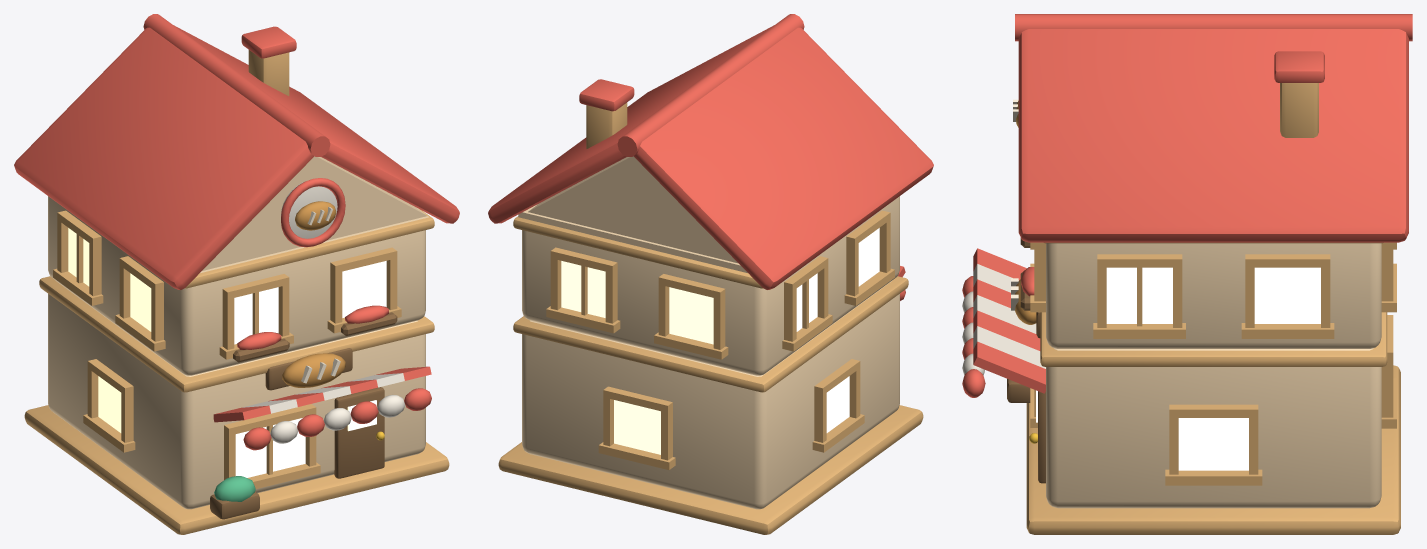
File: bld_pan.glb
3 renders of one model, left to right at view 1: azimuth 30°, elevation 25°; view 2: azimuth 150°, elevation 25°; view 3: azimuth 270°, elevation 25°, orthographic. The views are drawn at different scales.
Visible parts, largest first — view 1: Roof, Base, Floor; view 2: Roof, Base, Floor; view 3: Roof, Base, Floor.
Boxes of the visible parts, <box> form: Roof: <box>14,14,459,289</box>; Base: <box>24,276,449,534</box>; Floor: <box>48,196,434,375</box>; Roof: <box>488,14,933,289</box>; Base: <box>498,266,923,534</box>; Floor: <box>513,196,899,375</box>; Roof: <box>1013,14,1412,242</box>; Base: <box>962,248,1400,534</box>; Floor: <box>1020,238,1396,348</box>.
Bounding box in the file's own units: 1.02 × 1.34 × 1.15.
